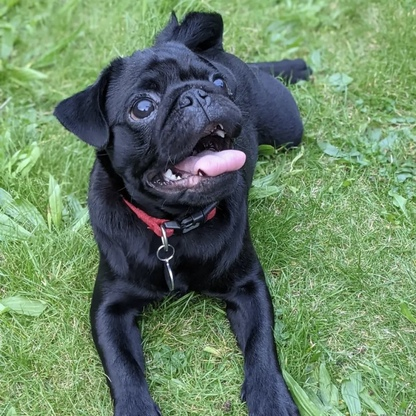Pug: (47, 8, 318, 416)
